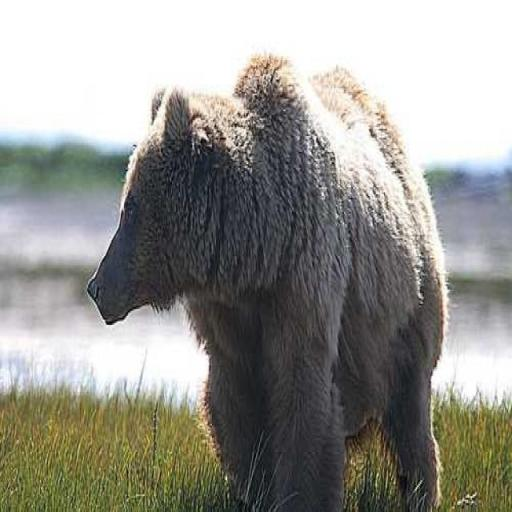Bear: (86, 52, 450, 510)
